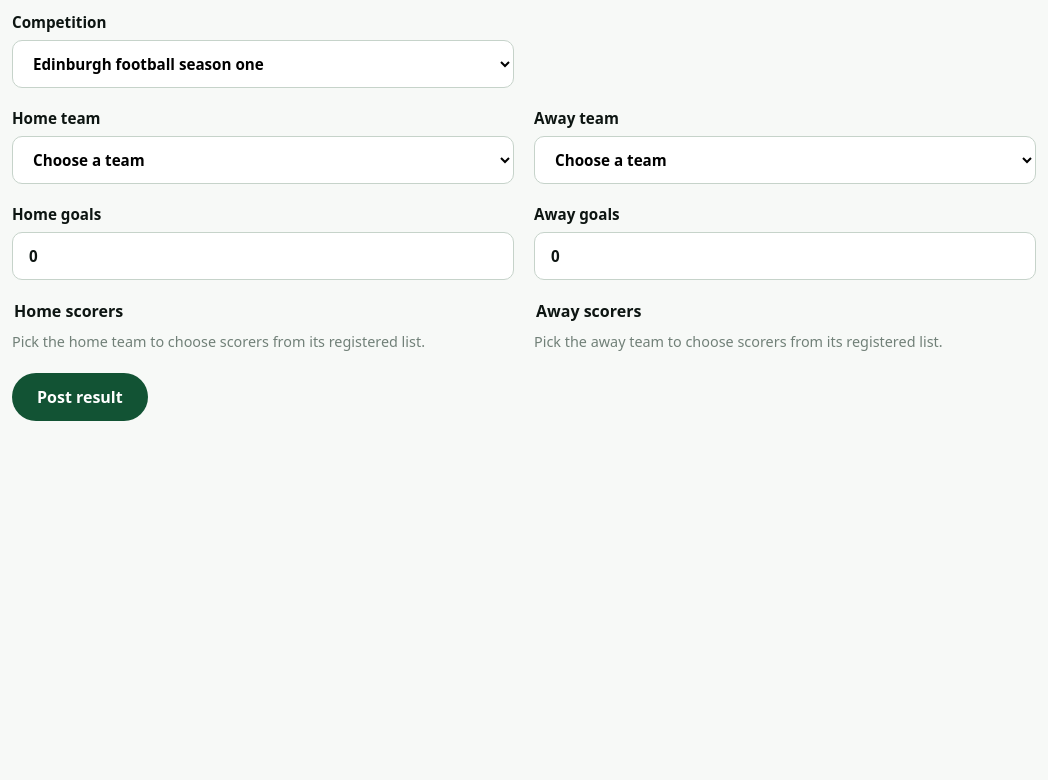
Scenario: FootballResultForm › reports mismatched player goals without clearing what was typed
The image size is (1048, 780).
Select "Pitch FC" in the dropdown labelled "Home team" at (263, 160), box [12, 136, 514, 184]
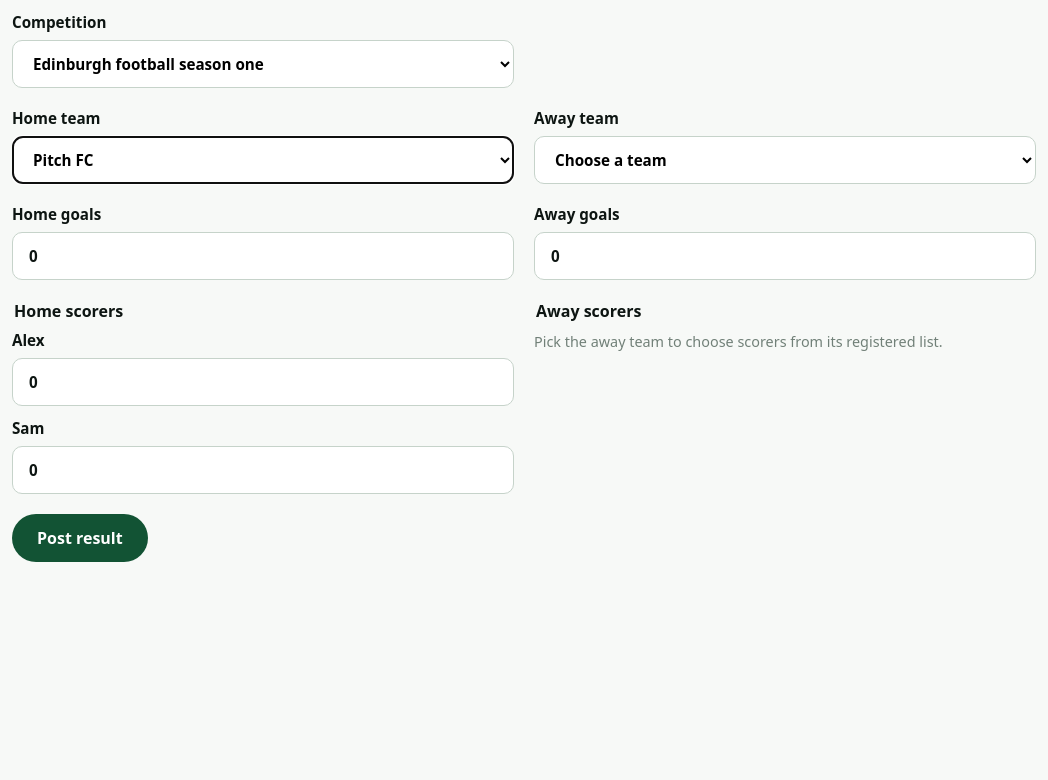
Select "Dockside" in the dropdown labelled "Away team" at (785, 160), box [534, 136, 1036, 184]
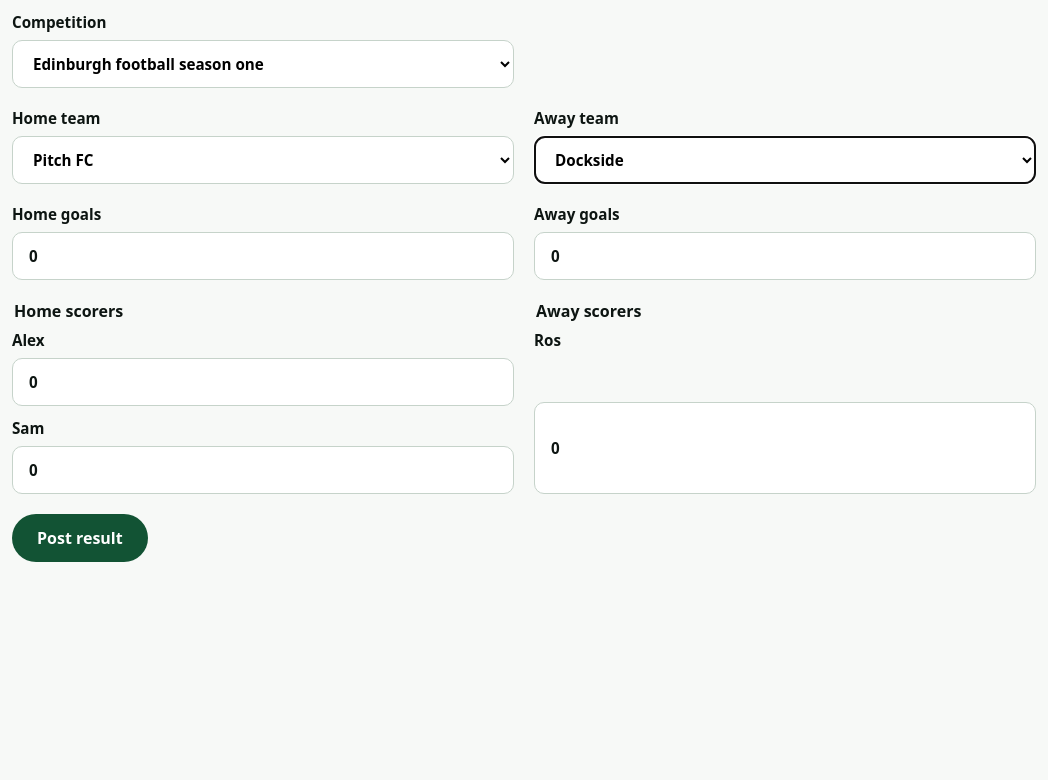
Replace the text in the number field labelled "Home goals" with "2" at (263, 256), box [12, 232, 514, 280]
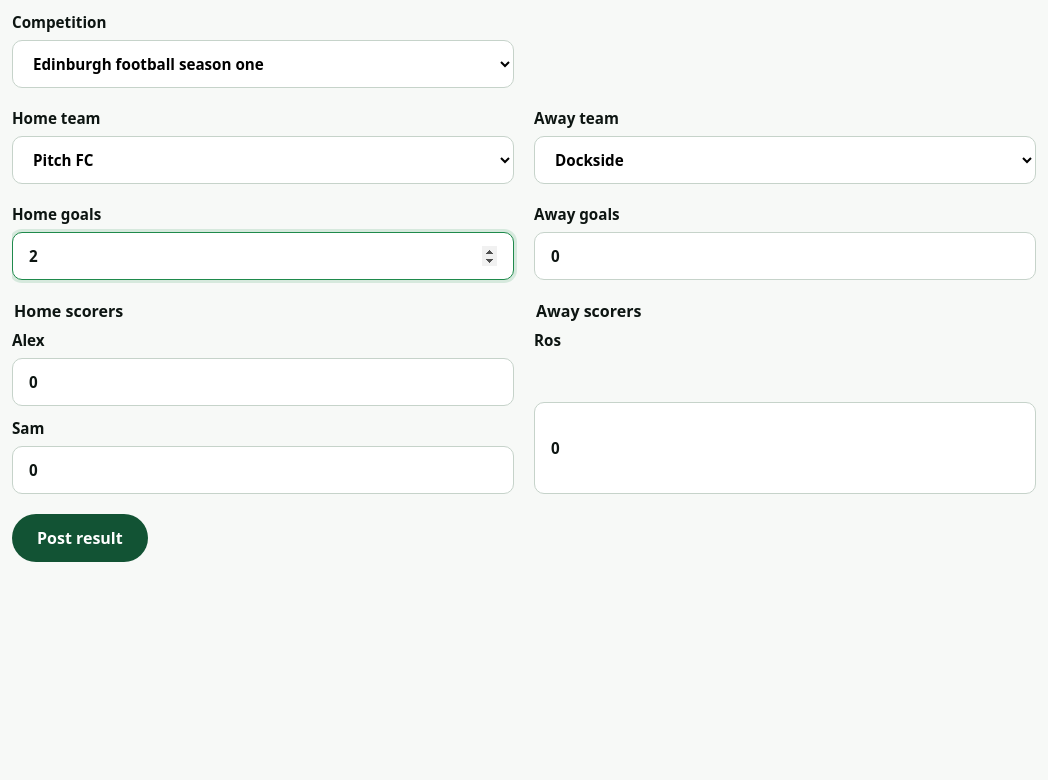
Replace the text in the number field labelled "Alex" with "1" at (263, 382), box [12, 358, 514, 406]
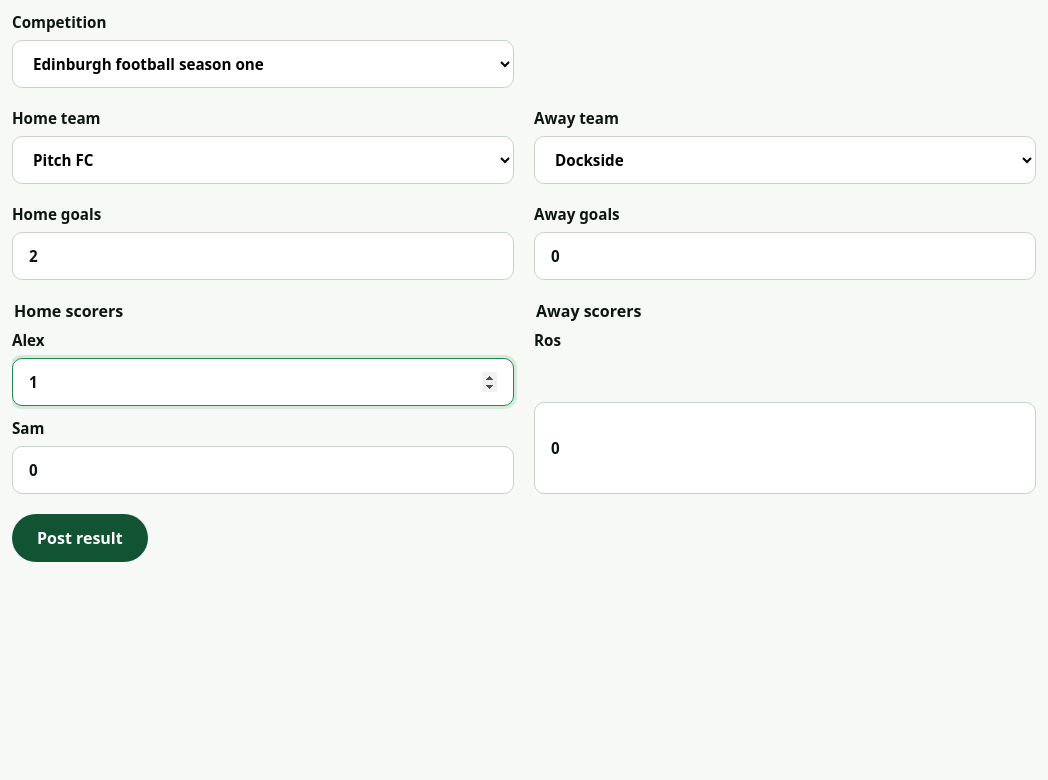
Click the button "Post result" at (80, 538), box [12, 514, 148, 562]
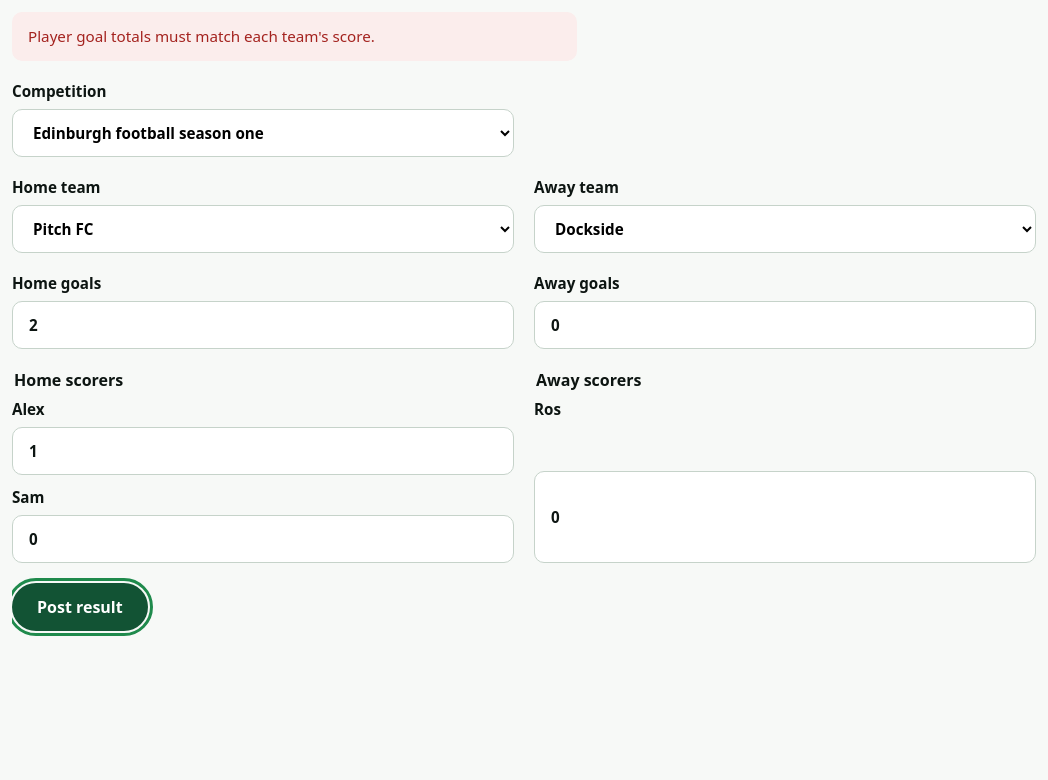
Expected: the text "Player goal totals must match each team's score." is shown, [12, 12, 577, 61]
